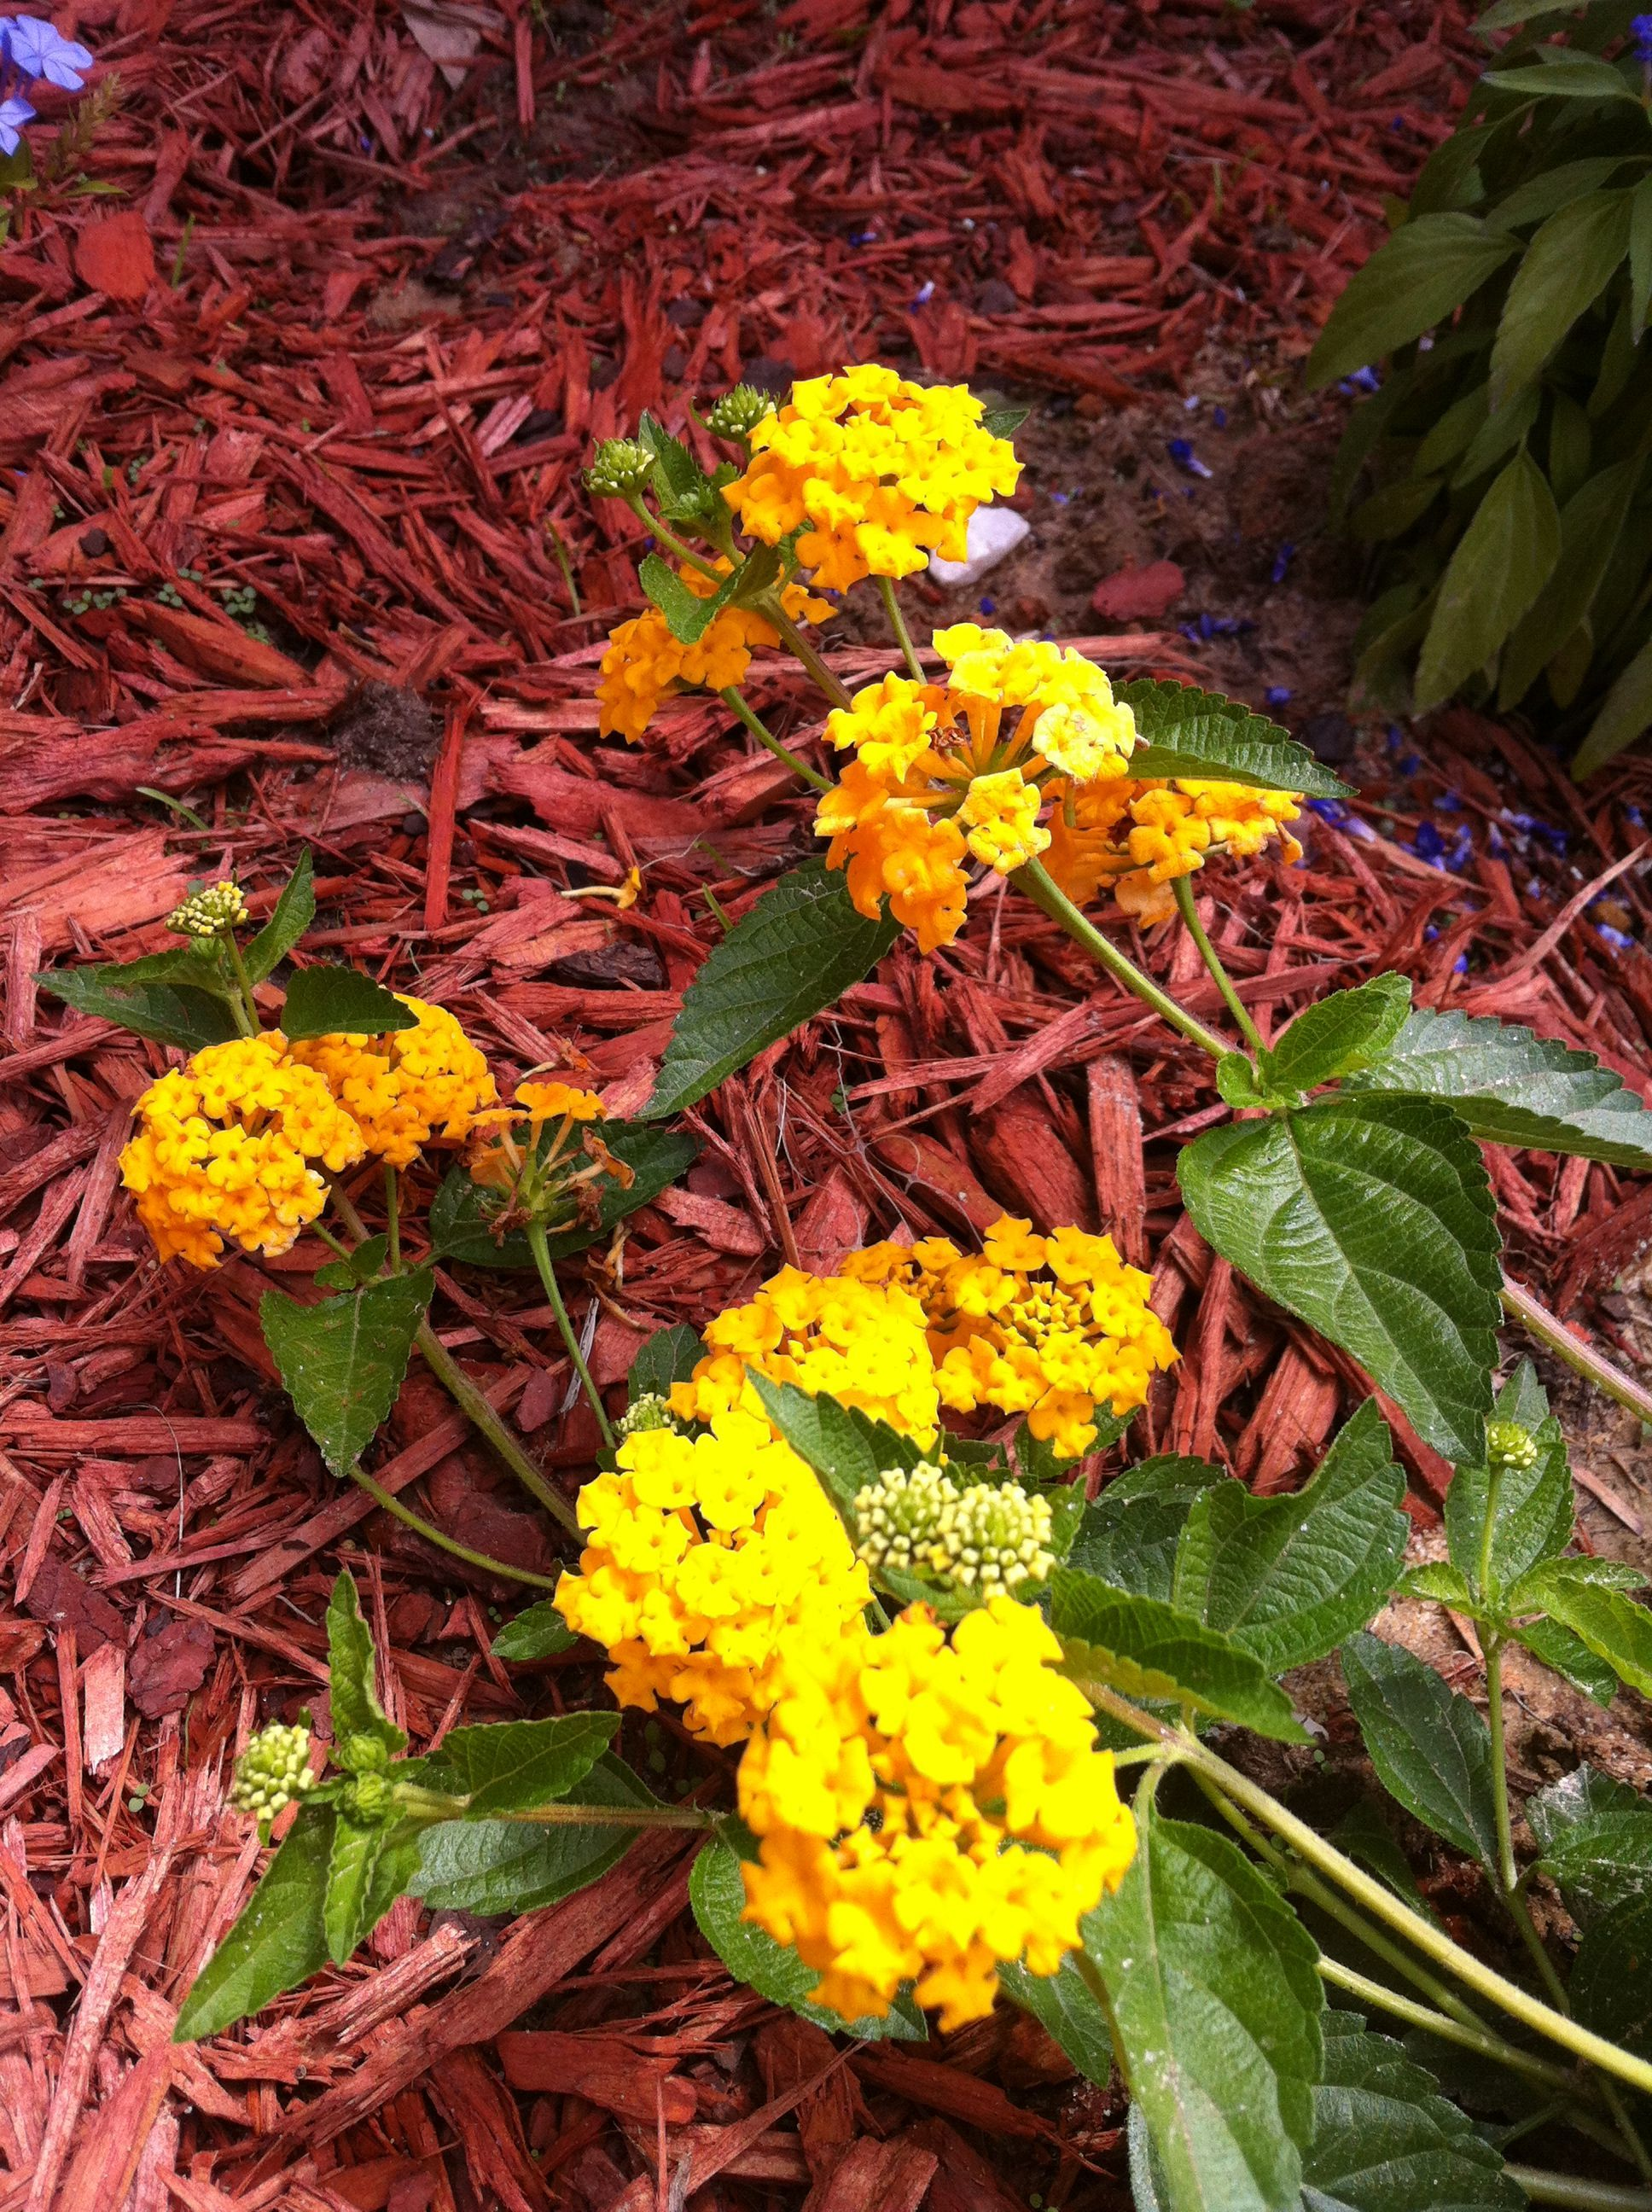lantana: (765, 1731, 866, 1823), (909, 1688, 994, 1775), (961, 770, 1041, 852), (880, 810, 956, 890), (904, 1856, 973, 1941), (1137, 793, 1201, 878), (897, 880, 973, 947), (937, 628, 1008, 699), (1026, 1386, 1102, 1452), (701, 1449, 765, 1527), (824, 678, 906, 737), (672, 1544, 741, 1610), (734, 1539, 802, 1603), (937, 1345, 1001, 1407), (618, 1509, 684, 1570), (869, 710, 932, 772), (1036, 710, 1097, 774), (1209, 802, 1286, 848), (642, 1449, 698, 1508), (989, 1216, 1048, 1270), (947, 1263, 1012, 1312), (777, 420, 840, 467), (210, 1124, 257, 1187), (345, 1058, 401, 1110), (255, 1129, 305, 1187), (154, 1116, 206, 1168), (842, 425, 897, 472), (274, 1176, 331, 1220), (375, 1109, 427, 1155), (1045, 1339, 1091, 1390), (217, 1187, 269, 1232), (774, 1284, 826, 1327), (1052, 1232, 1104, 1273), (172, 1175, 219, 1220), (397, 1031, 446, 1074), (198, 1067, 241, 1112), (241, 1069, 292, 1107), (521, 1086, 571, 1119), (158, 1081, 191, 1119)
